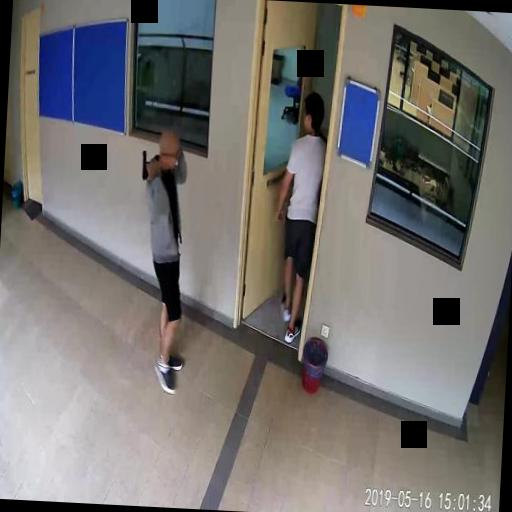Handgun: (140, 149, 158, 179)
